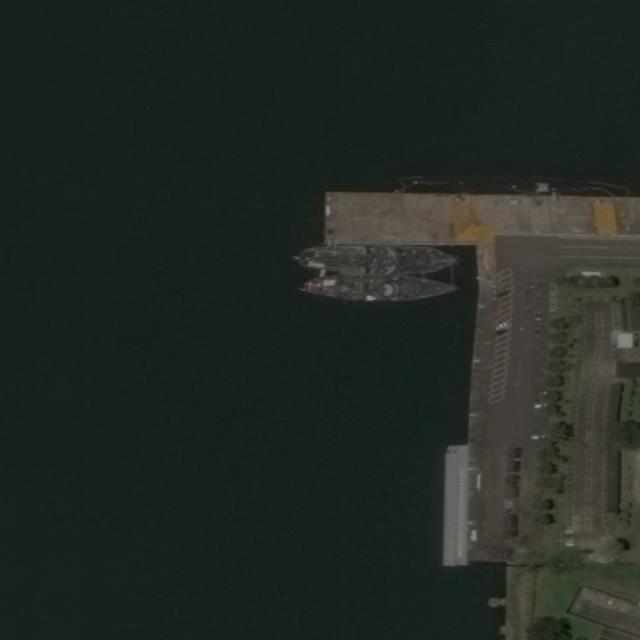Other Warship: (292, 273, 458, 306), (297, 244, 456, 275)
Submarine: (408, 169, 627, 198)
